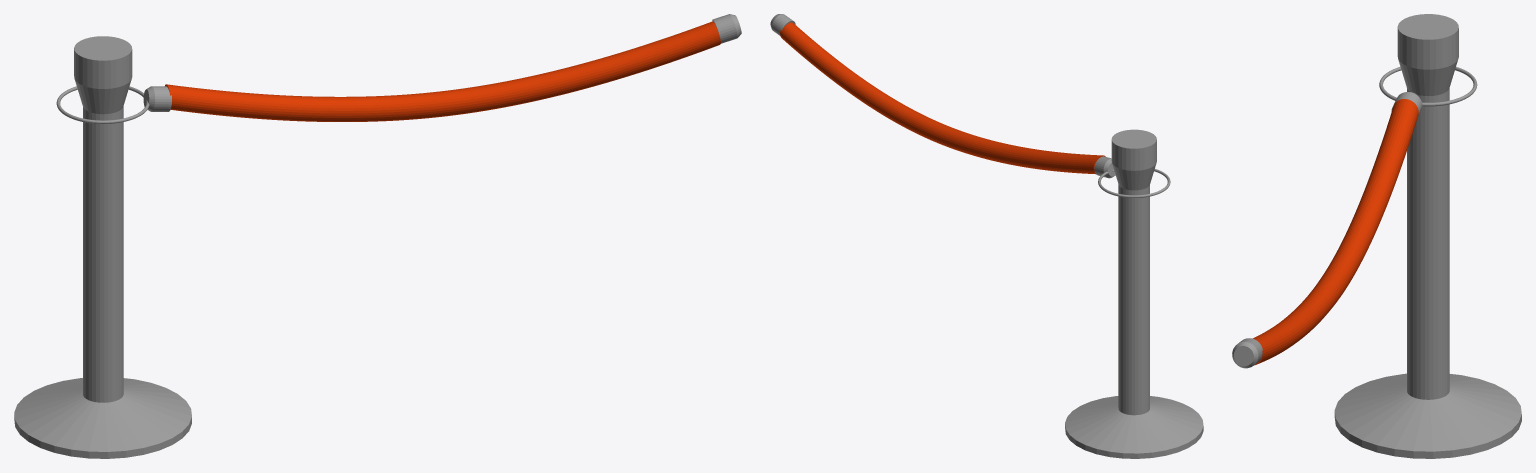
File: velvet_rope.glb
3 renders of one model, left to right at view 1: azimuth 30°, elevation 25°; view 2: azimuth 150°, elevation 25°; view 3: azimuth 270°, elevation 25°, orthographic. The views are drawn at different scales.
Visible parts, largest first — view 1: Cylinder.044_213; view 2: Cylinder.044_213; view 3: Cylinder.044_213.
Boxes of the visible parts, bbox=[...] form: Cylinder.044_213: bbox=[14, 14, 741, 458]; Cylinder.044_213: bbox=[770, 14, 1203, 458]; Cylinder.044_213: bbox=[1232, 14, 1521, 458].
Bounding box in the file's own units: 2.86 × 1.62 × 1.08.
